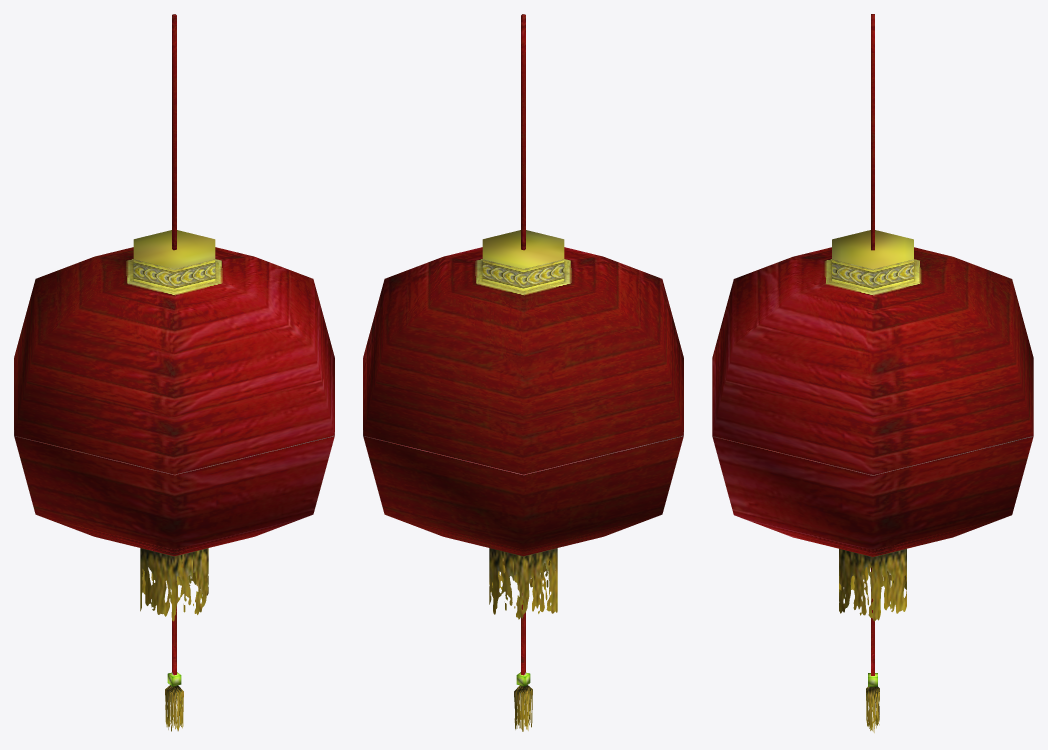
The model's file is LampignongRed01_Mo.fbx.
3 views of the same model, side by side, from view 1: azimuth 30°, elevation 25°; view 2: azimuth 150°, elevation 25°; view 3: azimuth 270°, elevation 25° (orthographic).
Visible parts, largest first — view 1: Sphere; view 2: Sphere; view 3: Sphere.
Boxes of the visible parts, box(x1,y1,x2,y2) form: Sphere: box(14, 14, 334, 731); Sphere: box(363, 14, 683, 731); Sphere: box(712, 14, 1033, 732).
Bounding box in the file's own units: 200 × 427 × 173.
